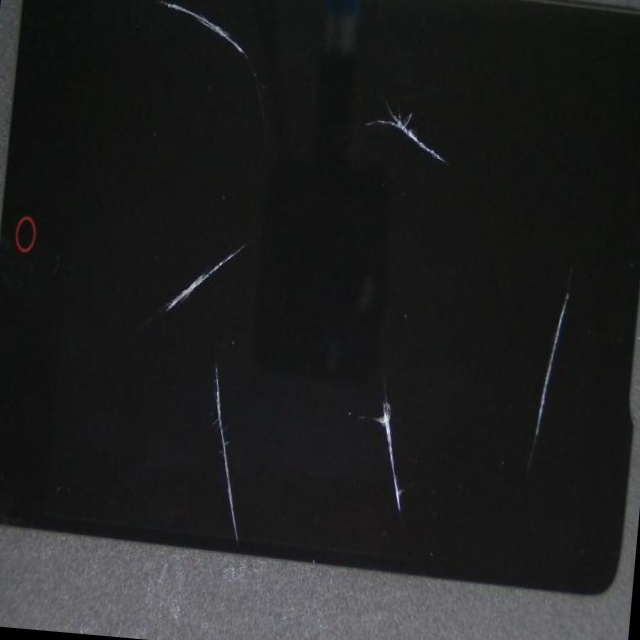scratch: (265, 12, 640, 526), (181, 313, 639, 640)
